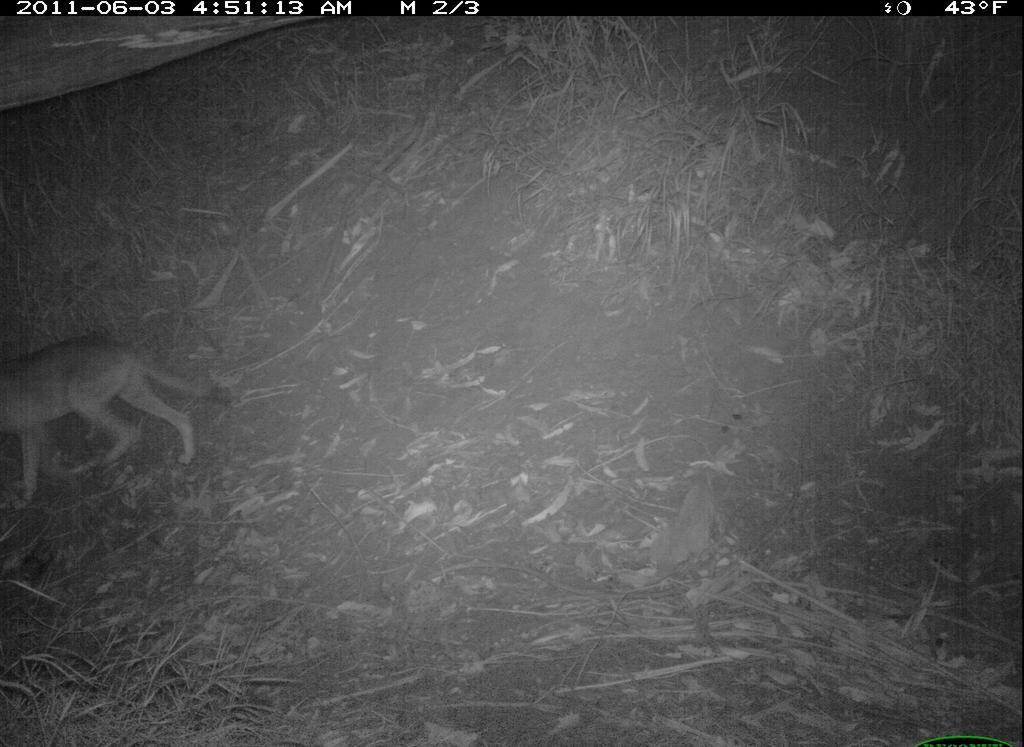coyote: (1, 328, 235, 516)
